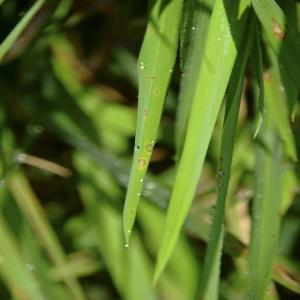Rice_Blast: (142, 135, 163, 158)
